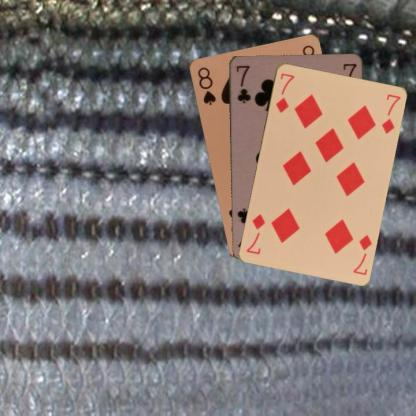7c: (233, 62, 252, 104)
7d: (273, 70, 296, 114), (350, 232, 373, 276)
8s: (195, 64, 217, 106)
